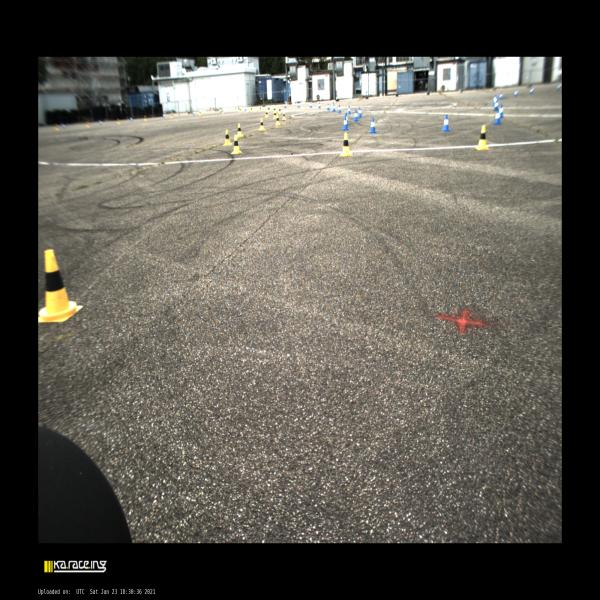blue_cone: (441, 113, 451, 132), (493, 109, 502, 125), (368, 118, 377, 132), (342, 115, 349, 130), (497, 104, 504, 118), (493, 100, 499, 112), (353, 110, 358, 121), (357, 107, 362, 117), (346, 105, 351, 114), (344, 114, 348, 124), (338, 104, 341, 113), (332, 104, 335, 111), (494, 98, 497, 105), (318, 102, 321, 108), (326, 104, 329, 110), (499, 93, 502, 99), (298, 102, 300, 108), (310, 102, 312, 108), (332, 102, 334, 108), (494, 96, 496, 102), (515, 91, 517, 97), (284, 103, 286, 108), (220, 108, 222, 113), (163, 114, 165, 118), (100, 121, 102, 125), (245, 106, 246, 111), (193, 110, 194, 114), (131, 118, 132, 121), (268, 104, 268, 110)
yellow_cone: (38, 250, 83, 322), (475, 125, 489, 150), (339, 132, 353, 156), (231, 135, 241, 154), (223, 130, 232, 146), (258, 118, 266, 131), (236, 123, 243, 137), (276, 115, 280, 126), (265, 110, 269, 118), (272, 110, 276, 118), (282, 112, 286, 120), (278, 108, 282, 114), (273, 107, 276, 113), (118, 119, 120, 125), (222, 108, 224, 113), (199, 111, 201, 116), (268, 107, 270, 112), (144, 116, 146, 121), (87, 122, 89, 127), (251, 106, 252, 112), (260, 106, 261, 111), (171, 113, 172, 118), (240, 109, 241, 112)
